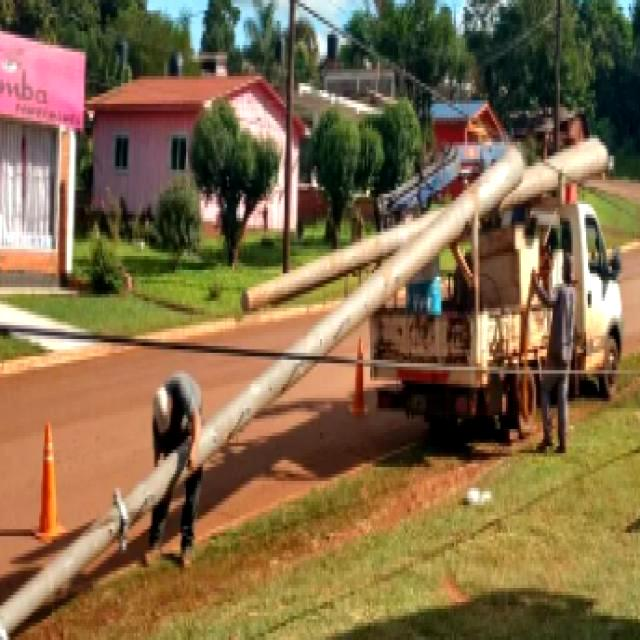Broken Pole: (0, 148, 523, 632), (243, 135, 609, 315)
